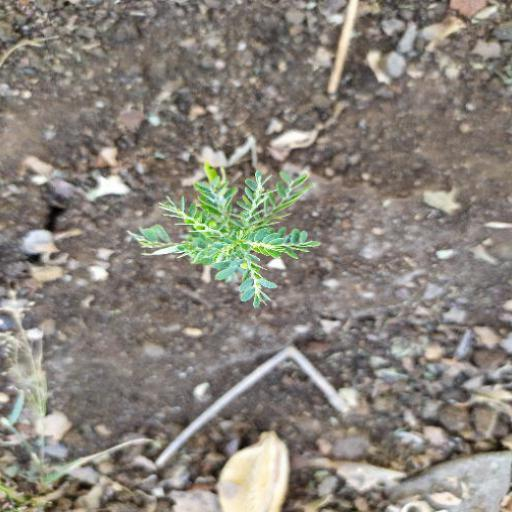weed: (138, 155, 324, 315)
